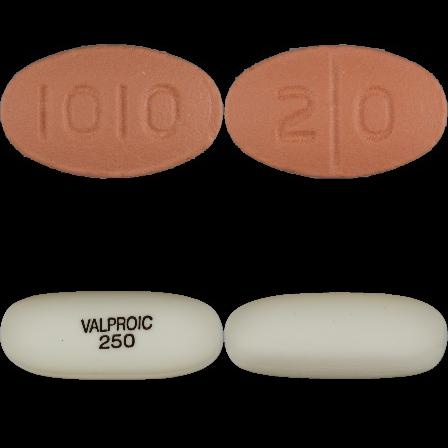0615-7831: (0, 0, 224, 224)
